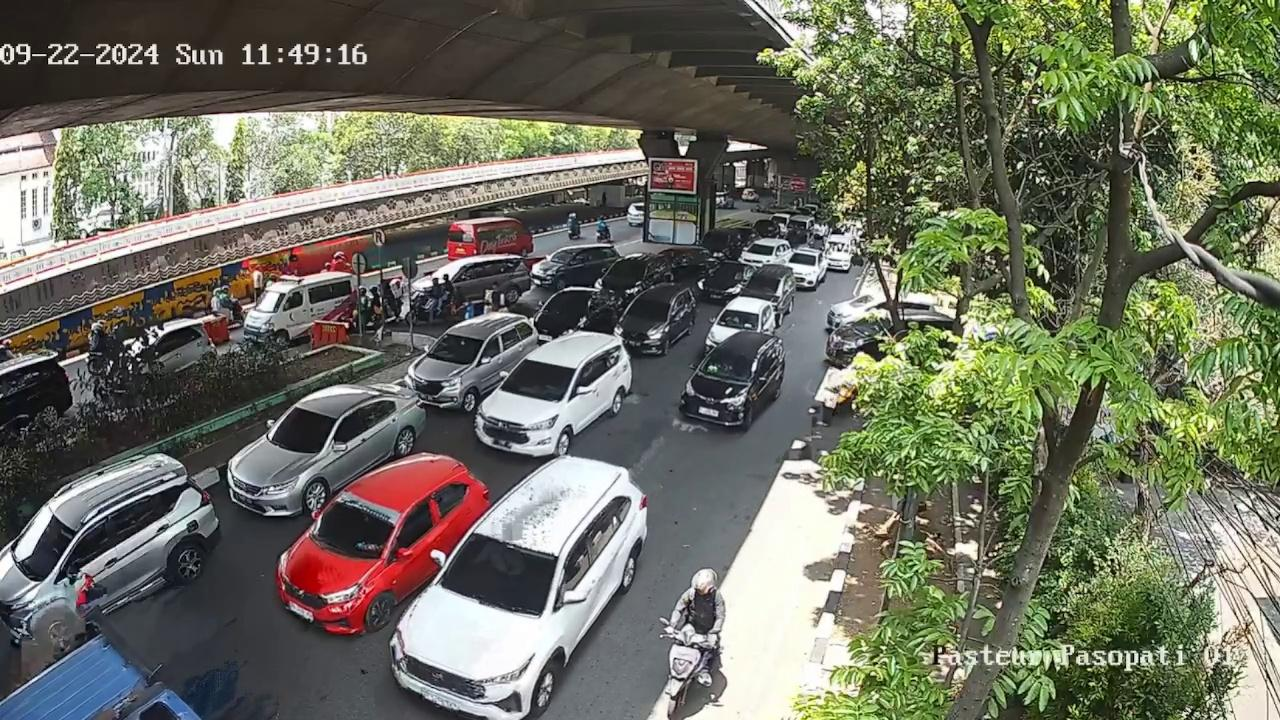pakai: (480, 544, 528, 581)
tidak-pakai: (726, 314, 739, 324)
windshield: (444, 535, 560, 616), (311, 496, 396, 559), (265, 406, 338, 452), (504, 358, 579, 396), (703, 348, 758, 384), (433, 334, 482, 364), (622, 296, 671, 324), (536, 294, 589, 317), (721, 310, 761, 331)
